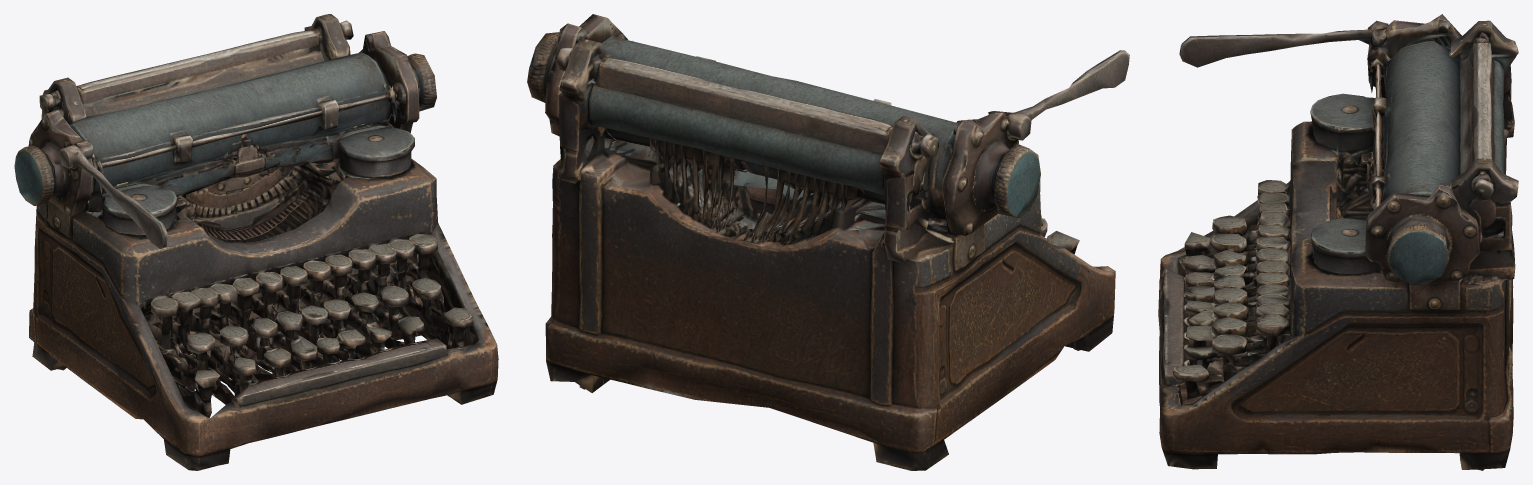
Rendered from Prop_Typewriter.fbx.
3 views of the same model, side by side, from view 1: azimuth 30°, elevation 25°; view 2: azimuth 150°, elevation 25°; view 3: azimuth 270°, elevation 25° (orthographic). The views are drawn at different scales.
Parts seen in each view (by area): view 1: texture_mapping; view 2: texture_mapping; view 3: texture_mapping.
Part boxes in pixels (x1,y1,x2,y2): texture_mapping: (14,14,498,470); texture_mapping: (527,14,1129,470); texture_mapping: (1158,14,1518,470).
Size of the model in its own units: 1 by 0.7348 by 0.6957.
Materials: 1 (1 with a texture image).
